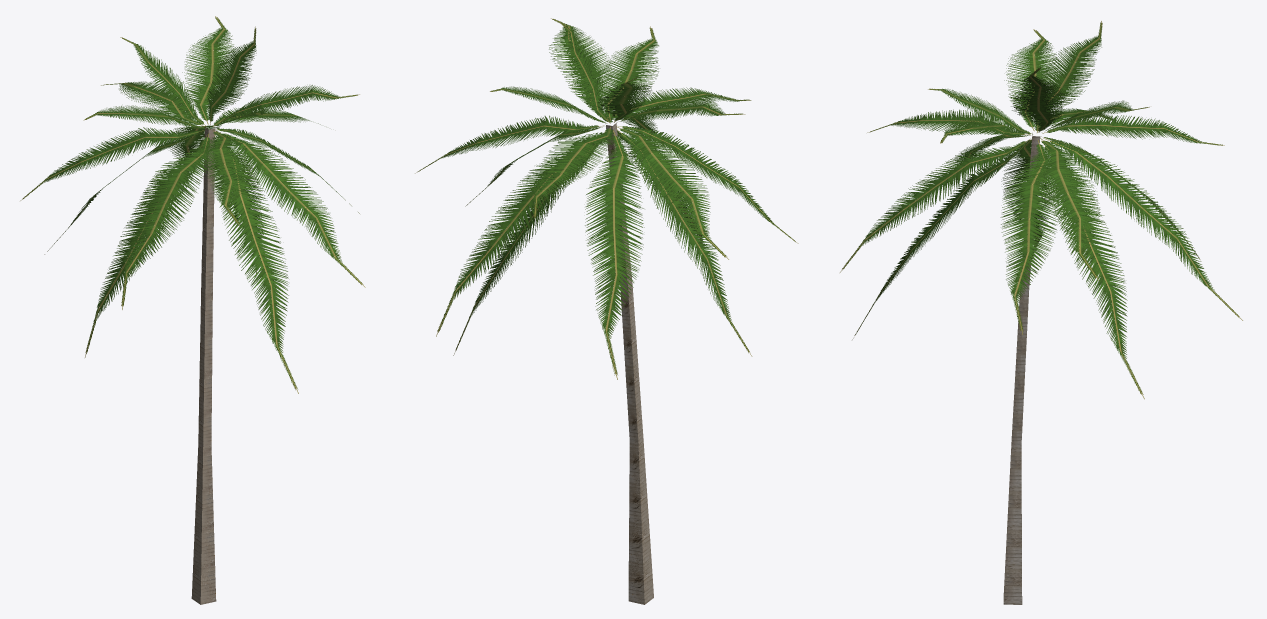
The model's file is palm_a_far.glb.
3 renders of one model, left to right at view 1: azimuth 30°, elevation 25°; view 2: azimuth 150°, elevation 25°; view 3: azimuth 270°, elevation 25°, orthographic. The views are drawn at different scales.
Parts seen in each view (by area): view 1: palm_a_far; view 2: palm_a_far; view 3: palm_a_far.
Part boxes in pixels (box(x1,y1,x2,y2)): palm_a_far: box(20, 16, 365, 604); palm_a_far: box(415, 18, 798, 604); palm_a_far: box(840, 21, 1242, 604).
Bounding box in the file's own units: 8.14 × 13.16 × 8.85.
2 materials, 2 textured.
